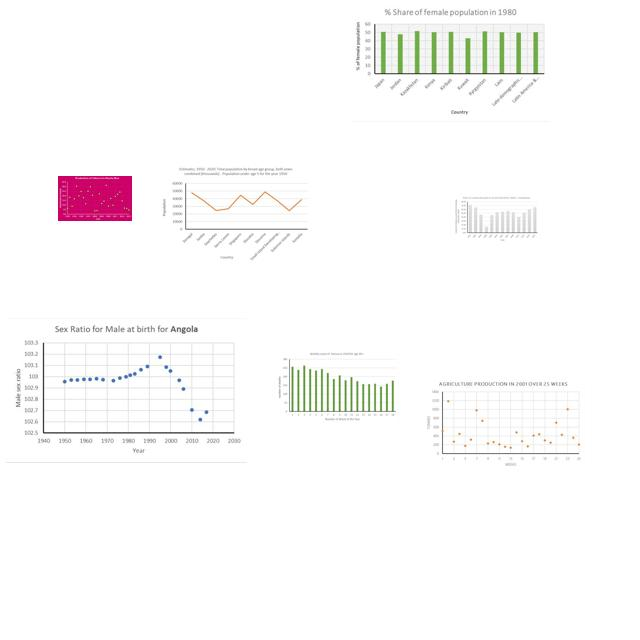Graph: (6, 318, 247, 463), (351, 3, 550, 122), (161, 166, 309, 261), (426, 380, 585, 468), (275, 350, 399, 424), (454, 195, 539, 242), (58, 176, 132, 221)
